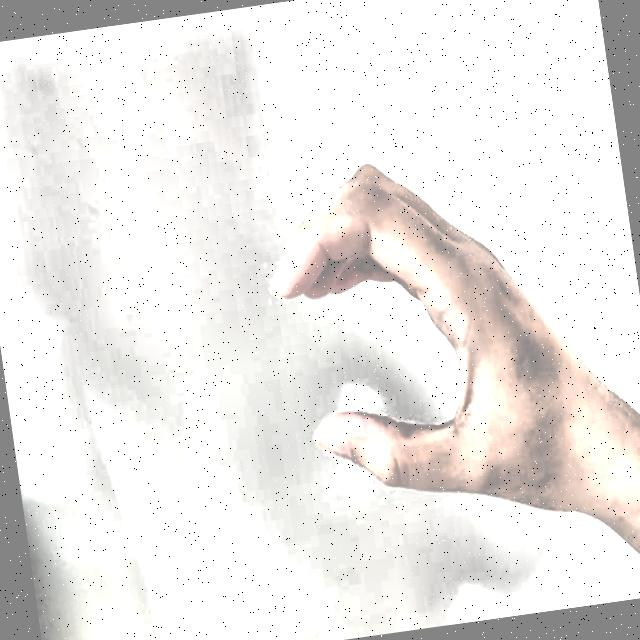A: (237, 114, 582, 573)
